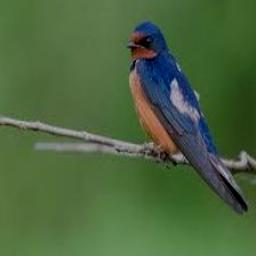Swallow: (126, 23, 249, 214)
